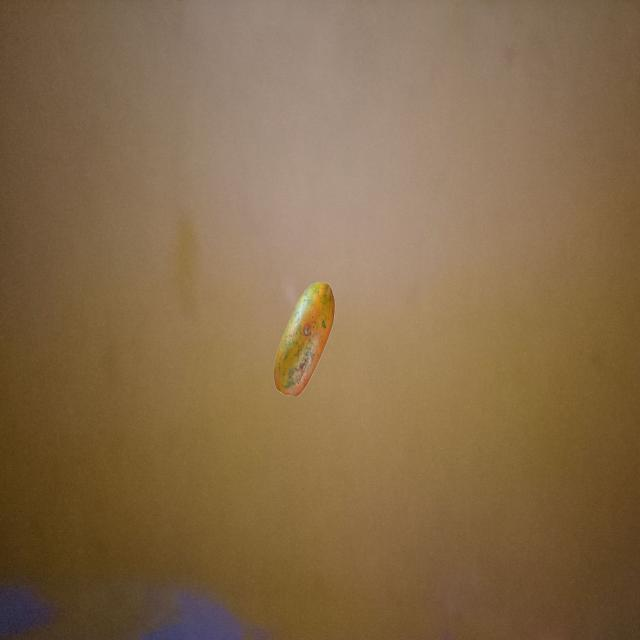Pepaya rippen: (269, 269, 340, 405)
